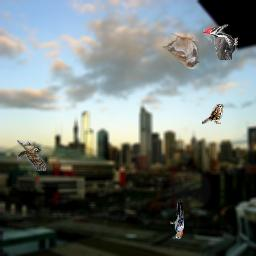Sparrow: (161, 33, 200, 69), (17, 140, 46, 171), (202, 104, 224, 124)
Woodpecker: (203, 24, 238, 60), (170, 199, 184, 239)
